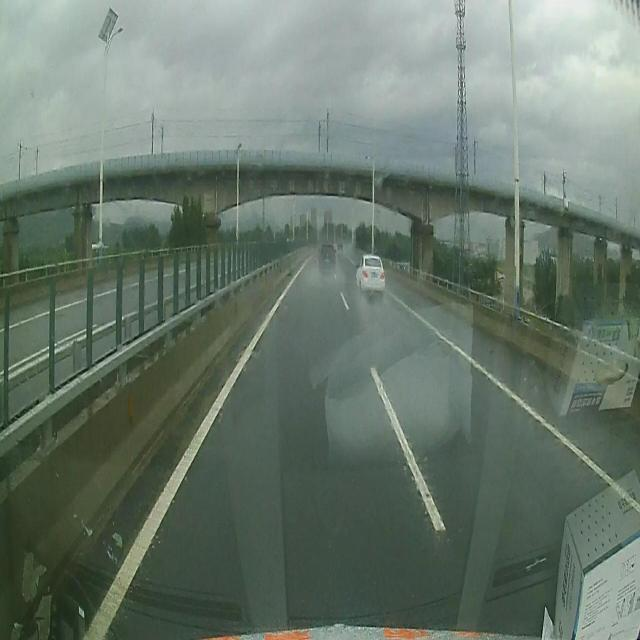car: (356, 251, 384, 296), (319, 238, 336, 274)
